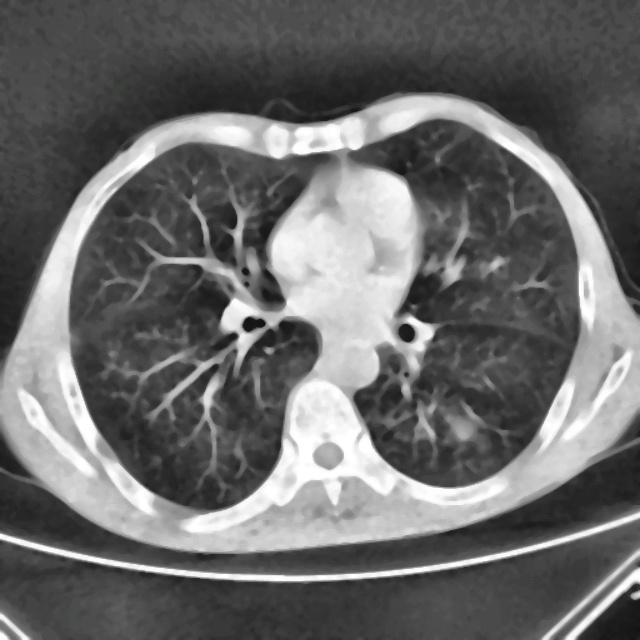covid: (1, 91, 638, 556)
